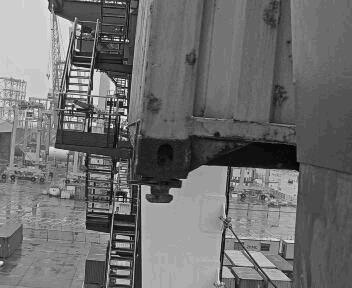twist_lock_1: (144, 174, 195, 208)
